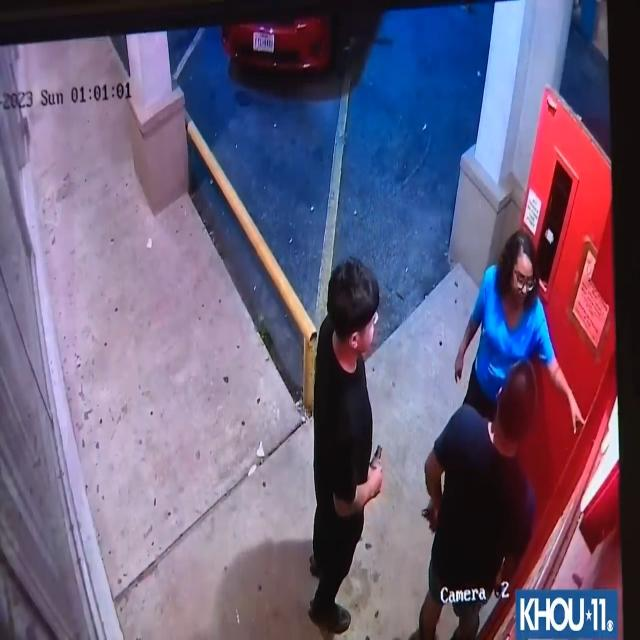Person: (423, 357, 542, 640), (468, 229, 584, 466), (306, 262, 379, 634)
